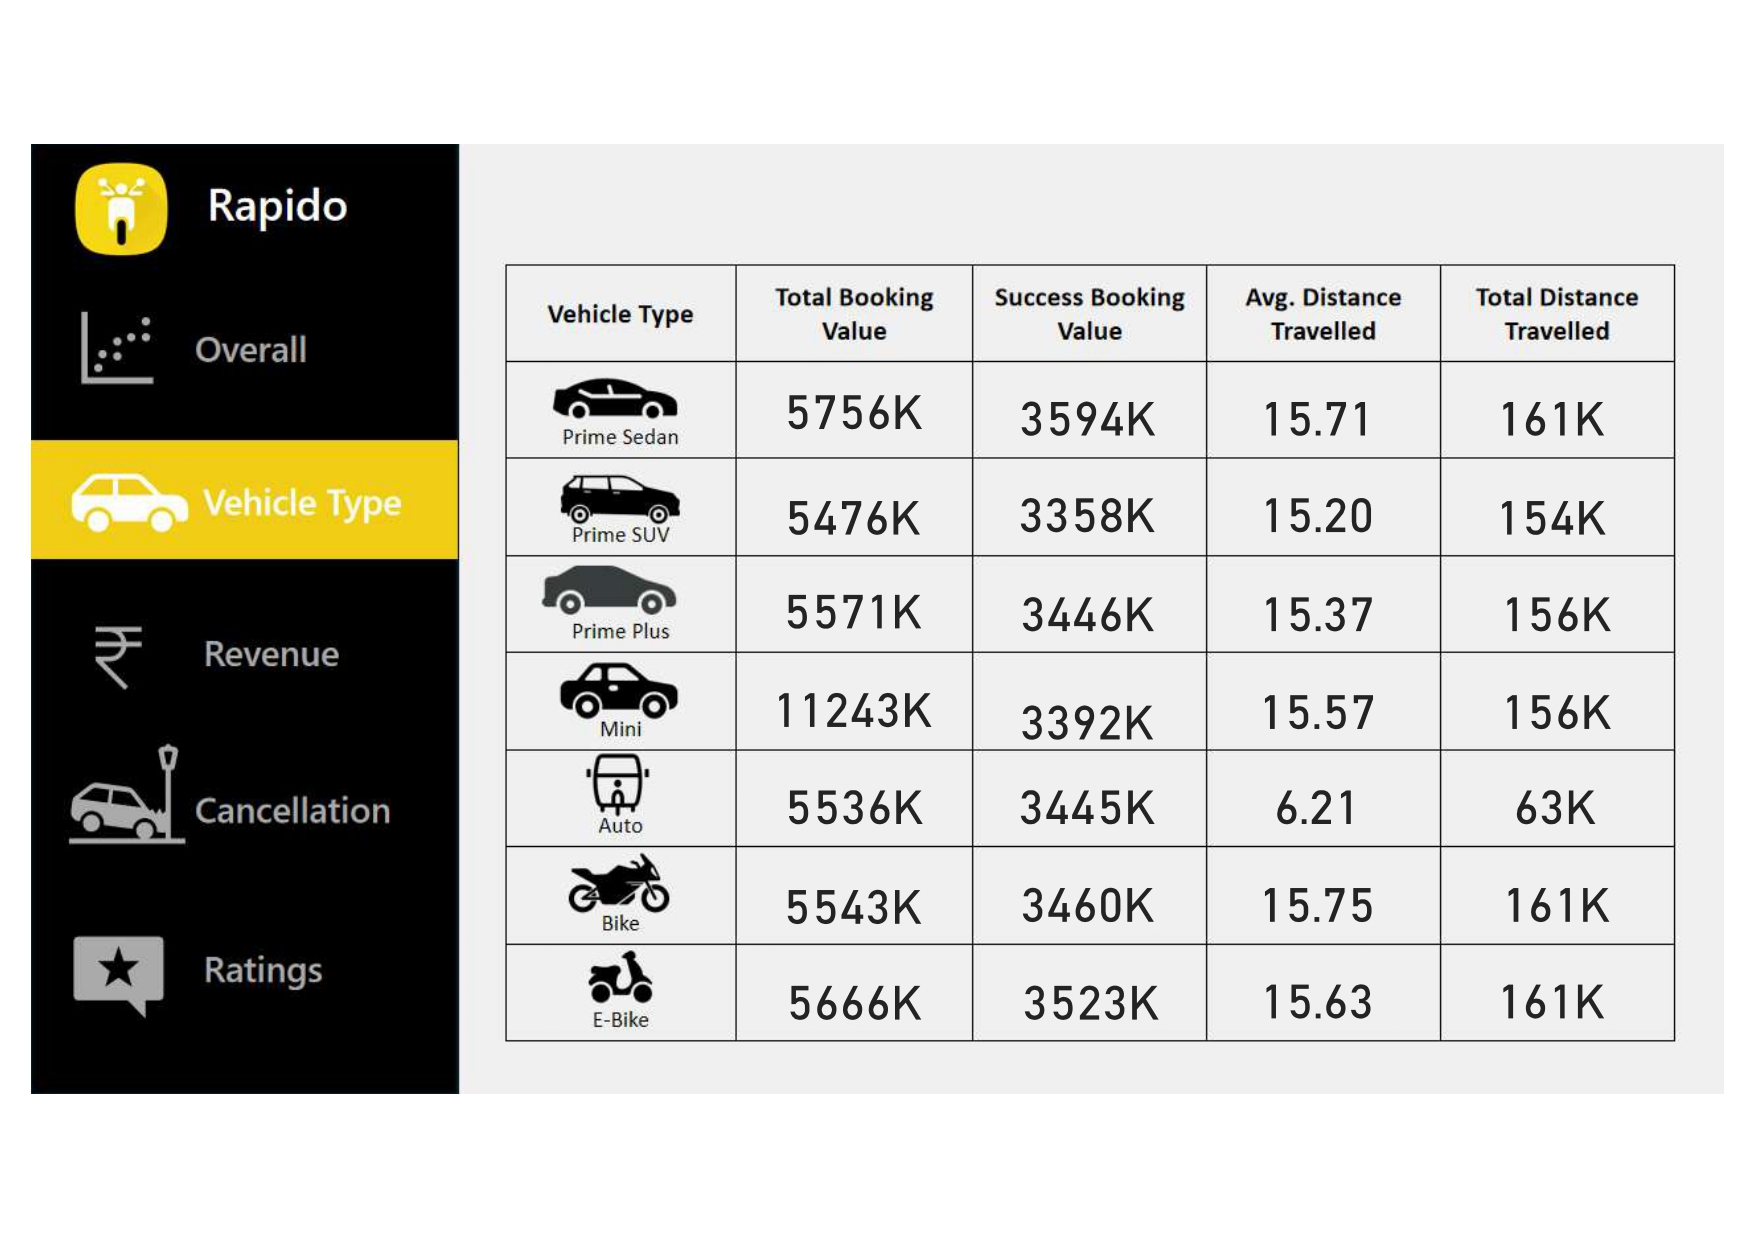

Layout of this report page (visuals, bound fields, positions):
{"tool":"powerbi","page":{"name":"Vehicle Type","canvas":[1280,720],"ordinal":1},"visuals":[{"type":"card","fields":{"Values":["Sum(July.Booking_Value)"]},"box":[552,167.3,138.9,63.8],"z":0},{"type":"card","fields":{"Values":["Sum(July.Booking_Value)"]},"box":[551.5,247.1,139.1,64.2],"z":1000},{"type":"card","fields":{"Values":["Sum(July.Booking_Value)"]},"box":[551.5,318.1,139.1,64.2],"z":2000},{"type":"card","fields":{"Values":["Sum(July.Booking_Value)"]},"box":[551.5,541.8,139.1,63.2],"z":3000},{"type":"card","fields":{"Values":["Sum(July.Booking_Value)"]},"box":[552.5,613.7,139.1,64.2],"z":4000},{"type":"card","fields":{"Values":["Sum(July.Booking_Value)"]},"box":[552.5,465.9,139.1,64.2],"z":5000},{"type":"card","fields":{"Values":["Sum(July.Booking_Value)"]},"box":[551.5,392.9,139.1,63.2],"z":6000},{"type":"card","fields":{"Values":["Sum(Sheet1.Avg Distance)"]},"box":[902.6,172.2,139.1,64.2],"z":7000},{"type":"card","fields":{"Values":["Sum(Sheet1.Avg Distance)"]},"box":[902.6,245.1,139.1,64.2],"z":8000},{"type":"card","fields":{"Values":["Sum(Sheet1.Avg Distance)"]},"box":[902.6,320,139.1,64.2],"z":9000},{"type":"card","fields":{"Values":["Sum(Sheet1.Avg Distance)"]},"box":[902.6,393.9,139.1,64.2],"z":10000},{"type":"card","fields":{"Values":["Sum(Sheet1.Avg Distance)"]},"box":[902.6,465.9,139.1,64.2],"z":11000},{"type":"card","fields":{"Values":["Sum(Sheet1.Avg Distance)"]},"box":[902.6,539.8,139.1,64.2],"z":12000},{"type":"card","fields":{"Values":["Sum(Sheet1.Avg Distance)"]},"box":[902.6,612.8,139.1,64.2],"z":13000},{"type":"card","fields":{"Values":["Sum(July.Booking_Value)"]},"box":[729.5,172.2,139.1,64.2],"z":14000},{"type":"card","fields":{"Values":["Sum(July.Booking_Value)"]},"box":[728.5,245.1,139.1,64.2],"z":15000},{"type":"card","fields":{"Values":["Sum(July.Booking_Value)"]},"box":[729.5,320,139.1,64.2],"z":16000},{"type":"card","fields":{"Values":["Sum(July.Booking_Value)"]},"box":[728.5,401.7,139.1,64.2],"z":17000},{"type":"card","fields":{"Values":["Sum(July.Booking_Value)"]},"box":[728.5,465.9,139.1,64.2],"z":18000},{"type":"card","fields":{"Values":["Sum(July.Booking_Value)"]},"box":[729.5,539.8,139.1,64.2],"z":19000},{"type":"card","fields":{"Values":["Sum(July.Booking_Value)"]},"box":[732.4,613.7,139.1,64.2],"z":20000},{"type":"card","fields":{"Values":["Sum(July.Ride_Distance)"]},"box":[1079.6,172.2,139.1,64.2],"z":21000},{"type":"card","fields":{"Values":["Sum(July.Ride_Distance)"]},"box":[1079.6,247.1,139.1,64.2],"z":22000},{"type":"card","fields":{"Values":["Sum(July.Ride_Distance)"]},"box":[1083.5,320,139.1,64.2],"z":23000},{"type":"card","fields":{"Values":["Sum(July.Ride_Distance)"]},"box":[1083.5,393.9,139.1,64.2],"z":24000},{"type":"card","fields":{"Values":["Sum(July.Ride_Distance)"]},"box":[1082.6,465.9,139.1,64.2],"z":25000},{"type":"card","fields":{"Values":["Sum(July.Ride_Distance)"]},"box":[1083.5,539.8,139.1,64.2],"z":26000},{"type":"card","fields":{"Values":["Sum(July.Ride_Distance)"]},"box":[1079.6,612.8,139.1,64.2],"z":27000},{"type":"actionButton","box":[0,336,324.6,91.7],"z":28000},{"type":"actionButton","box":[0,442.1,324.6,95.8],"z":28001},{"type":"actionButton","box":[0,568.9,324.6,91.7],"z":28002},{"type":"actionButton","box":[0,113.4,324.6,85.5],"z":28003}]}

Visuals, with their boxes on the page's 1280x720 design canvas (x1, y1, x2, y2). These are canvas units, not pixel positions in the 1755x1241 screenshot, which may show the page scaled, cropped or inside an application window:
card - Sum(July.Booking_Value): bbox=(552, 167, 691, 231)
card - Sum(July.Booking_Value): bbox=(552, 247, 691, 311)
card - Sum(July.Booking_Value): bbox=(552, 318, 691, 382)
card - Sum(July.Booking_Value): bbox=(552, 542, 691, 605)
card - Sum(July.Booking_Value): bbox=(552, 614, 692, 678)
card - Sum(July.Booking_Value): bbox=(552, 466, 692, 530)
card - Sum(July.Booking_Value): bbox=(552, 393, 691, 456)
card - Sum(Sheet1.Avg Distance): bbox=(903, 172, 1042, 236)
card - Sum(Sheet1.Avg Distance): bbox=(903, 245, 1042, 309)
card - Sum(Sheet1.Avg Distance): bbox=(903, 320, 1042, 384)
card - Sum(Sheet1.Avg Distance): bbox=(903, 394, 1042, 458)
card - Sum(Sheet1.Avg Distance): bbox=(903, 466, 1042, 530)
card - Sum(Sheet1.Avg Distance): bbox=(903, 540, 1042, 604)
card - Sum(Sheet1.Avg Distance): bbox=(903, 613, 1042, 677)
card - Sum(July.Booking_Value): bbox=(730, 172, 869, 236)
card - Sum(July.Booking_Value): bbox=(728, 245, 868, 309)
card - Sum(July.Booking_Value): bbox=(730, 320, 869, 384)
card - Sum(July.Booking_Value): bbox=(728, 402, 868, 466)
card - Sum(July.Booking_Value): bbox=(728, 466, 868, 530)
card - Sum(July.Booking_Value): bbox=(730, 540, 869, 604)
card - Sum(July.Booking_Value): bbox=(732, 614, 872, 678)
card - Sum(July.Ride_Distance): bbox=(1080, 172, 1219, 236)
card - Sum(July.Ride_Distance): bbox=(1080, 247, 1219, 311)
card - Sum(July.Ride_Distance): bbox=(1084, 320, 1223, 384)
card - Sum(July.Ride_Distance): bbox=(1084, 394, 1223, 458)
card - Sum(July.Ride_Distance): bbox=(1083, 466, 1222, 530)
card - Sum(July.Ride_Distance): bbox=(1084, 540, 1223, 604)
card - Sum(July.Ride_Distance): bbox=(1080, 613, 1219, 677)
actionButton: bbox=(0, 336, 325, 428)
actionButton: bbox=(0, 442, 325, 538)
actionButton: bbox=(0, 569, 325, 661)
actionButton: bbox=(0, 113, 325, 199)
